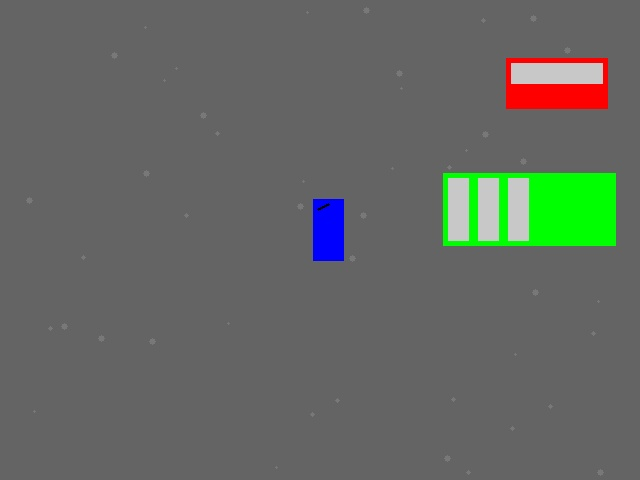bus: (443, 173, 615, 245)
car: (506, 58, 607, 108)
motorcycle: (313, 199, 343, 260)
